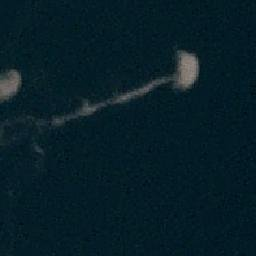debris: (49, 72, 171, 127), (172, 47, 200, 93), (1, 67, 21, 101)
